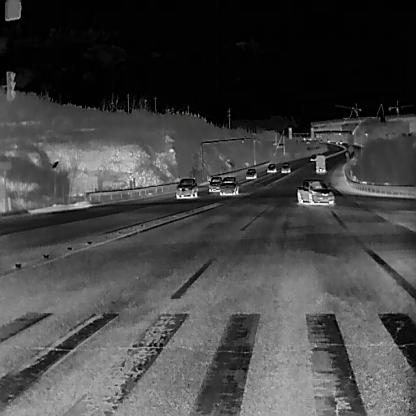car: (296, 177, 334, 205), (174, 177, 198, 198), (218, 175, 238, 195), (208, 176, 223, 192), (245, 167, 257, 179), (280, 161, 291, 173), (266, 162, 276, 172), (309, 153, 316, 161), (326, 138, 330, 142), (338, 140, 342, 144), (335, 140, 338, 144), (319, 139, 322, 142)
truck: (314, 154, 326, 173)
